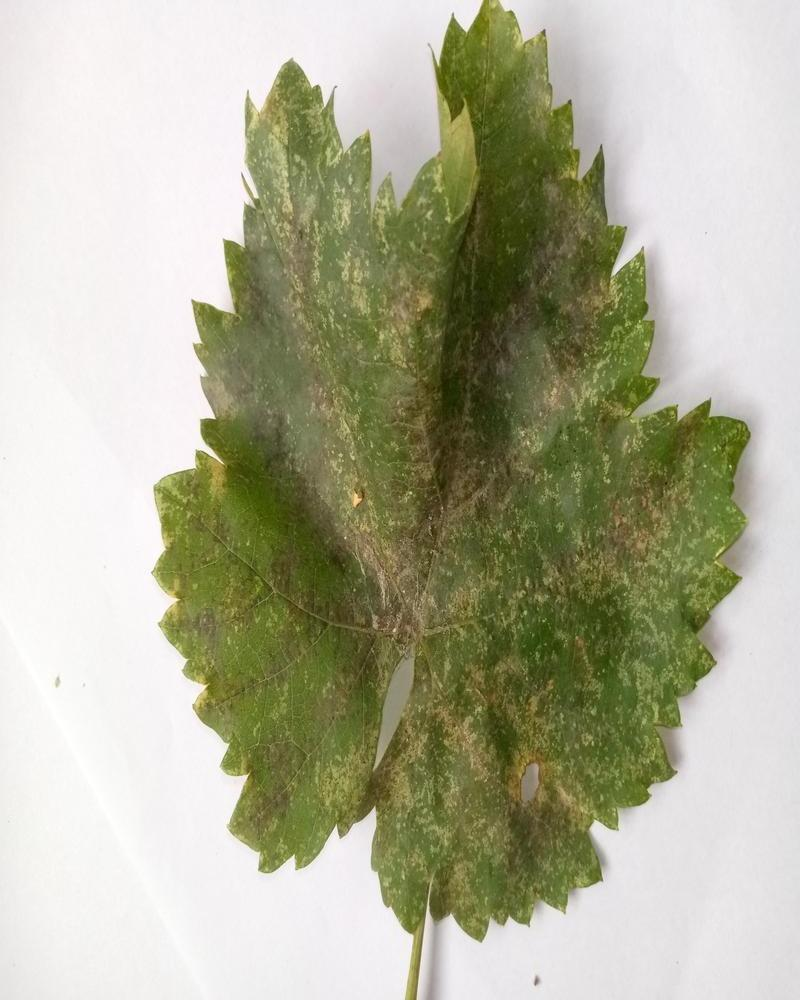Powdery-Mildew: (320, 278, 508, 609), (392, 636, 583, 889), (578, 405, 739, 666), (487, 172, 617, 449), (245, 83, 382, 308), (232, 624, 375, 834), (208, 324, 308, 478), (596, 723, 659, 786)
